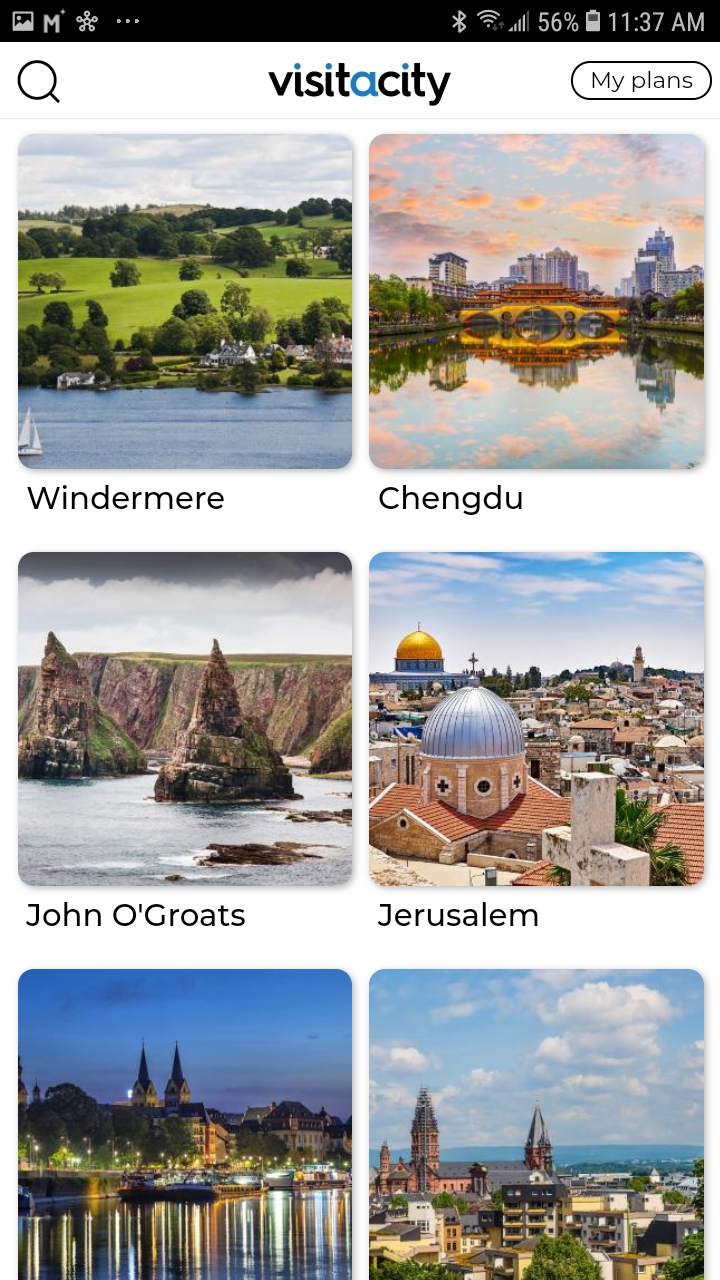Icon: (18, 60, 62, 104)
Image: (369, 134, 705, 470), (18, 134, 353, 470), (369, 552, 705, 887), (18, 552, 353, 887), (18, 968, 353, 1280), (369, 969, 704, 1280), (267, 62, 452, 107)
Text: (26, 901, 246, 927), (27, 485, 225, 511), (379, 484, 523, 516), (378, 901, 539, 927)
TextButton: (571, 61, 713, 102)
UpperTaskBar: (1, 1, 720, 43)
